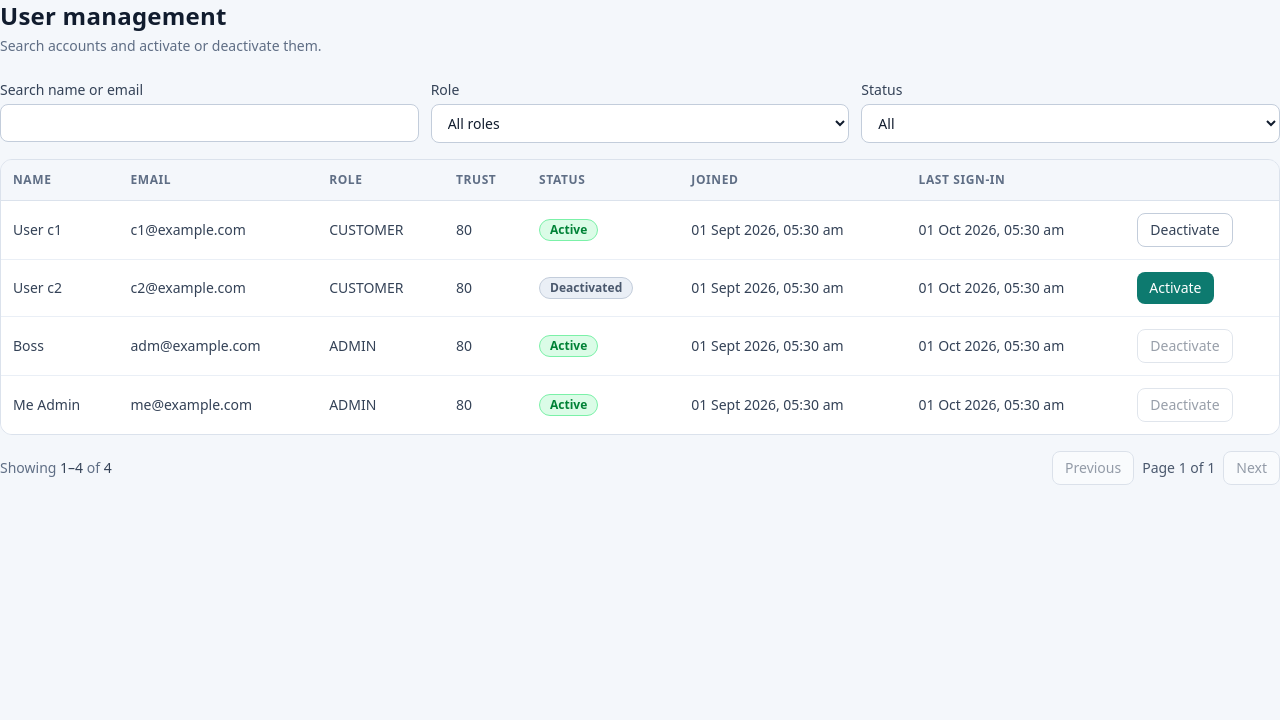
Scenario: UserManagement › deactivate: confirm dialog → PATCH { isActive: false } → list reloads
The image size is (1280, 720).
Expected: the text "User c1" is shown, [1, 200, 118, 260]
Click the button "Deactivate" in the row of "User c1" at (1185, 230), box [1137, 213, 1233, 247]
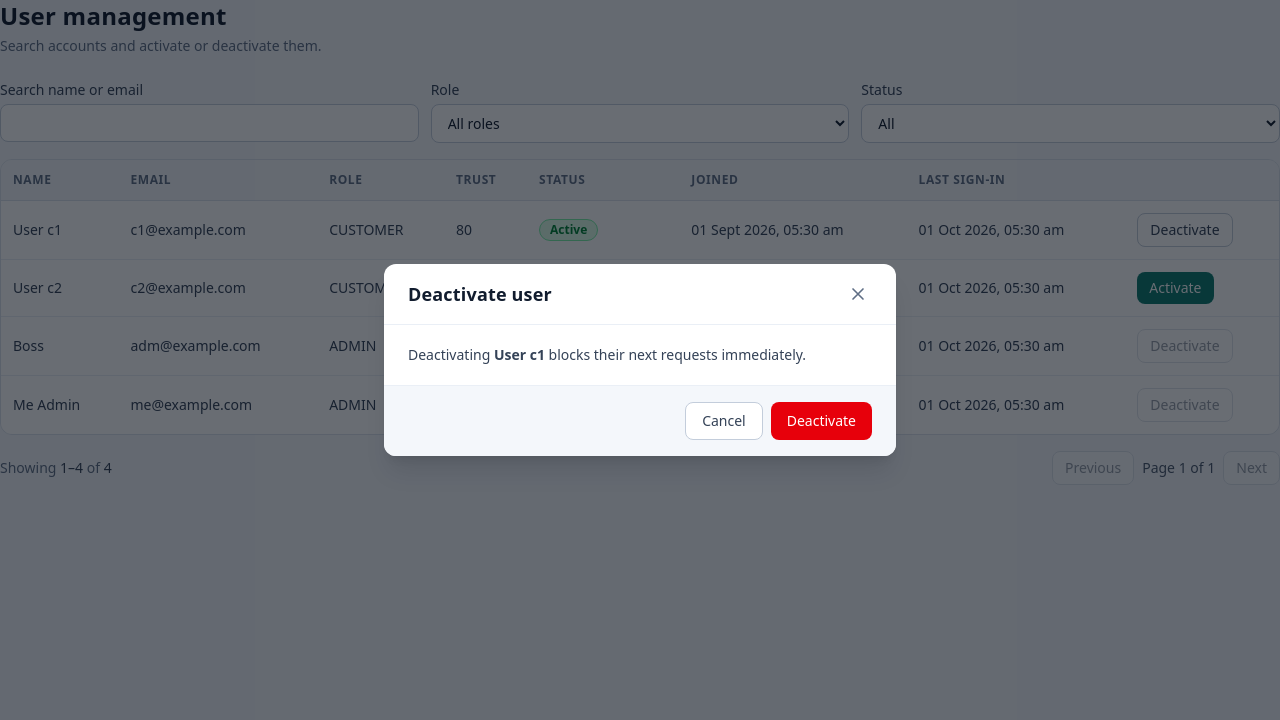
Click the button "Deactivate" at (821, 421), box [771, 402, 872, 440]
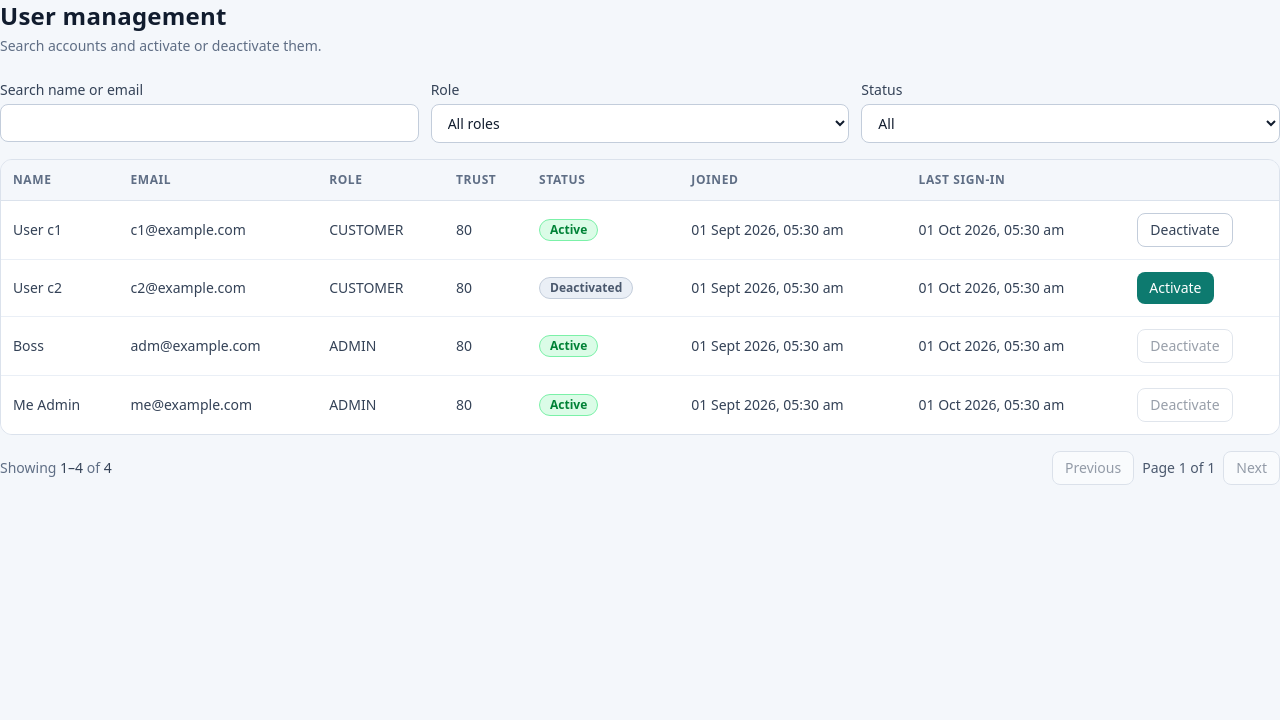
Expected: the dialog is gone
